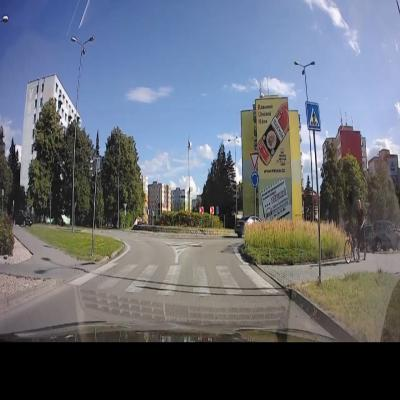clear-road: (104, 232, 257, 305)
